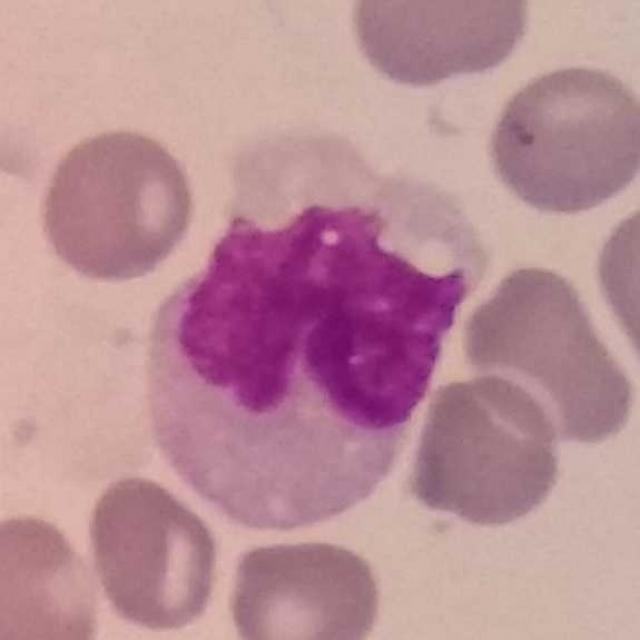mono: (148, 129, 495, 528)
